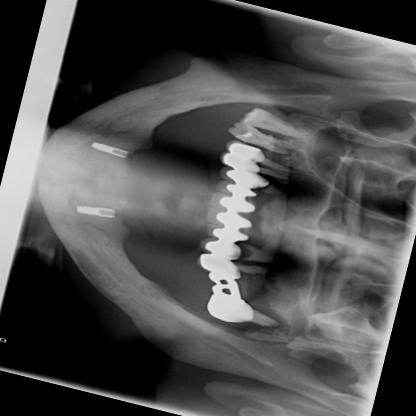Bicon: (72, 199, 119, 222)
